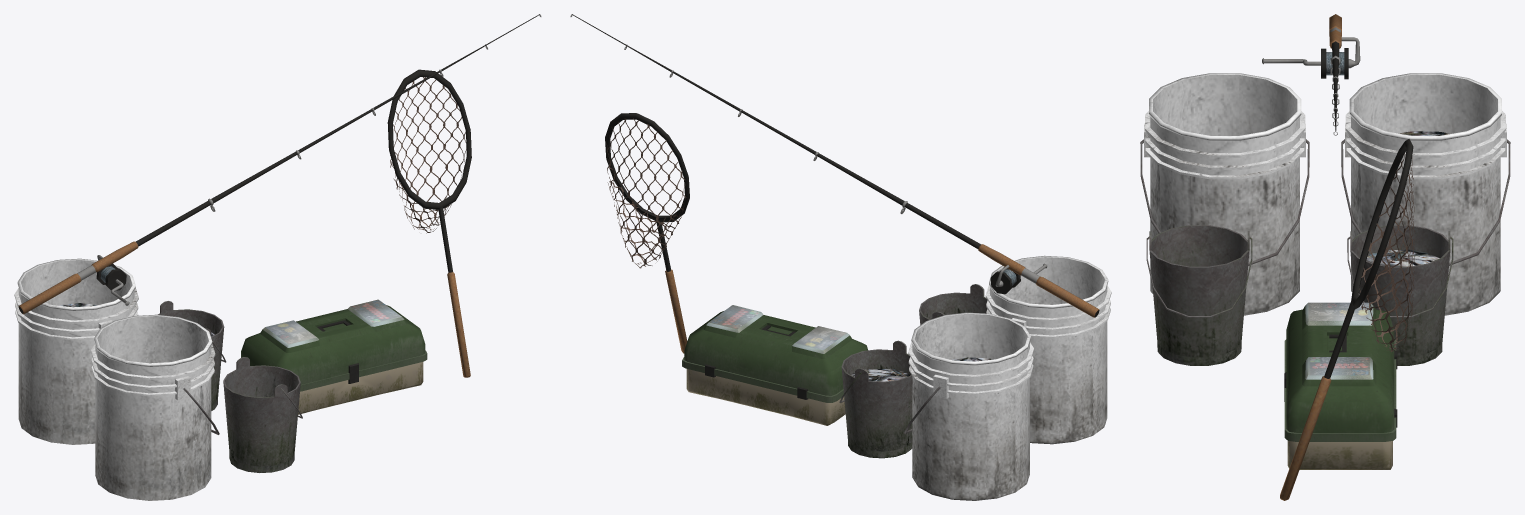
The model's file is fishing_supplies_set.glb.
3 renders of one model, left to right at view 1: azimuth 30°, elevation 25°; view 2: azimuth 150°, elevation 25°; view 3: azimuth 270°, elevation 25°, orthographic. The views are drawn at different scales.
Parts seen in each view (by area): view 1: Plastic Bucket Empty_6, Plastic Bucket (Full)_3, Tackle Box_1, Metal Bucket (Empty)_5, Fishing Net_4, Fishing Pole_0, Metal Bucket (Full)_2; view 2: Plastic Bucket (Full)_3, Plastic Bucket Empty_6, Tackle Box_1, Metal Bucket (Full)_2, Fishing Net_4, Fishing Pole_0, Metal Bucket (Empty)_5; view 3: Plastic Bucket Empty_6, Plastic Bucket (Full)_3, Tackle Box_1, Metal Bucket (Empty)_5, Metal Bucket (Full)_2, Fishing Net_4, Fishing Pole_0.
Part boxes in pixels (x1=…): Plastic Bucket Empty_6: x1=91, y1=314, x2=219, y2=500; Plastic Bucket (Full)_3: x1=14, y1=258, x2=138, y2=444; Tackle Box_1: x1=241, y1=299, x2=427, y2=414; Metal Bucket (Empty)_5: x1=223, y1=357, x2=302, y2=472; Fishing Net_4: x1=387, y1=69, x2=471, y2=377; Fishing Pole_0: x1=18, y1=14, x2=541, y2=314; Metal Bucket (Full)_2: x1=158, y1=301, x2=226, y2=410; Plastic Bucket (Full)_3: x1=904, y1=312, x2=1033, y2=500; Plastic Bucket Empty_6: x1=985, y1=255, x2=1111, y2=444; Tackle Box_1: x1=682, y1=305, x2=867, y2=425; Metal Bucket (Full)_2: x1=839, y1=340, x2=912, y2=458; Fishing Net_4: x1=605, y1=113, x2=689, y2=353; Fishing Pole_0: x1=570, y1=14, x2=1099, y2=317; Metal Bucket (Empty)_5: x1=919, y1=284, x2=987, y2=324; Plastic Bucket Empty_6: x1=1140, y1=73, x2=1309, y2=315; Plastic Bucket (Full)_3: x1=1341, y1=73, x2=1510, y2=315; Tackle Box_1: x1=1284, y1=302, x2=1397, y2=469; Metal Bucket (Empty)_5: x1=1146, y1=225, x2=1252, y2=365; Metal Bucket (Full)_2: x1=1347, y1=225, x2=1453, y2=365; Fishing Net_4: x1=1280, y1=139, x2=1414, y2=500; Fishing Pole_0: x1=1262, y1=14, x2=1360, y2=135.
Bounding box in the file's own units: 124 × 74.2 × 58.
1 material, 1 textured.
